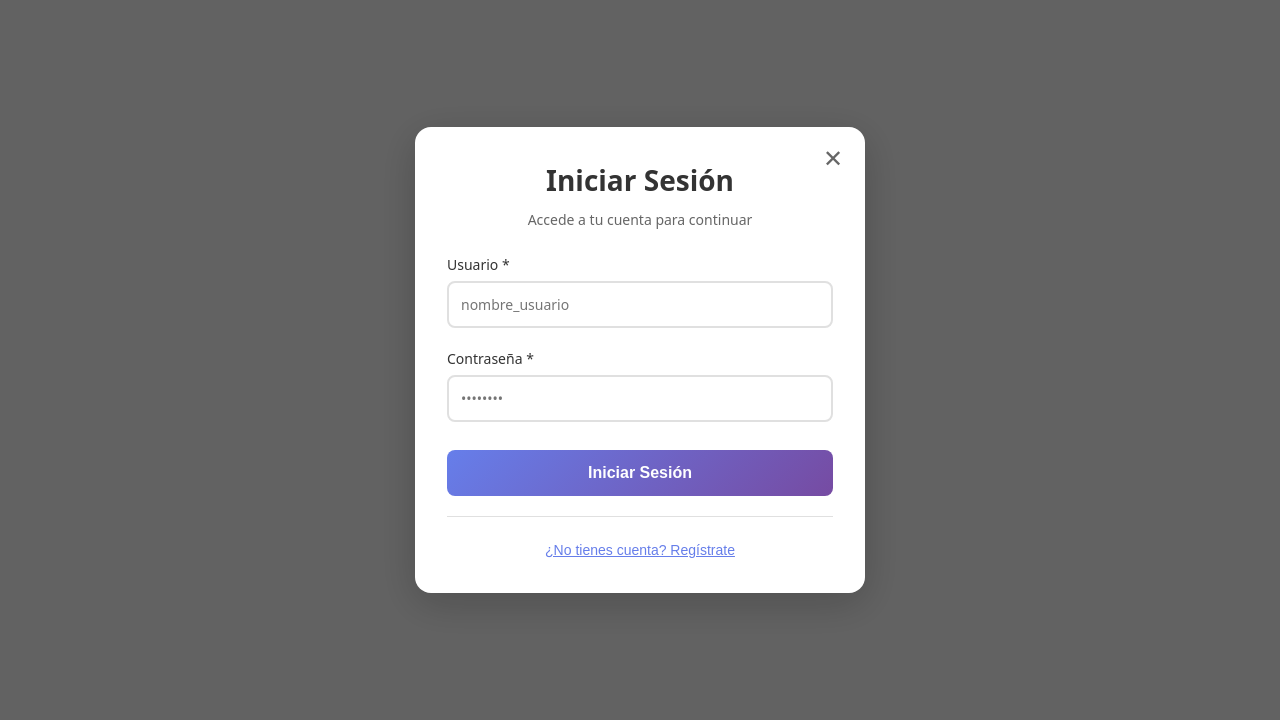
Test case: LoginPopup › switches to register mode when button is clicked
The image size is (1280, 720).
Click the button "¿No tienes cuenta? Regístrate" at (640, 550), box left=539, top=541, right=741, bottom=559
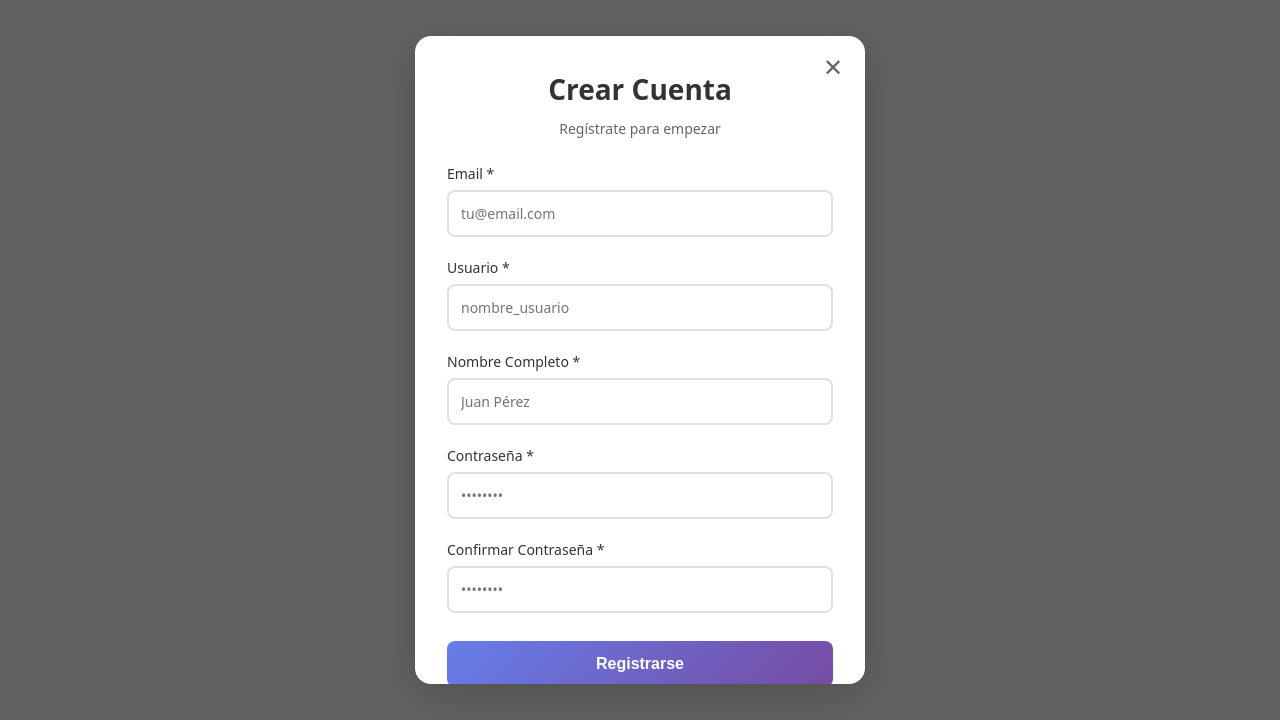
Expected: the heading "Crear Cuenta" is shown, left=548, top=70, right=732, bottom=108
Expected: the text "Regístrate para empezar" is shown, left=559, top=119, right=721, bottom=138
